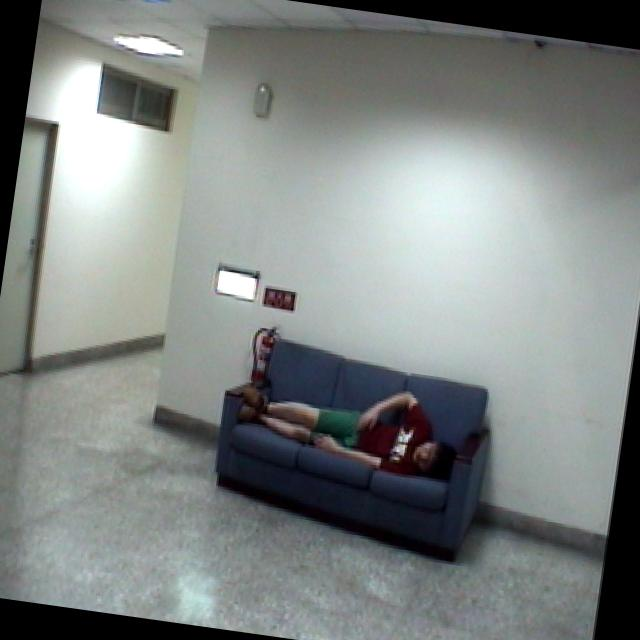lie: (223, 360, 467, 499)
